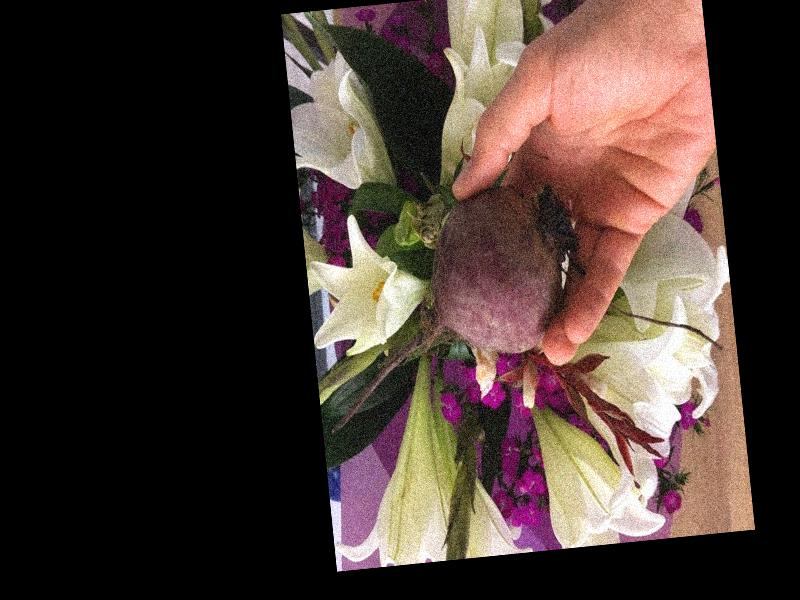Beet: (311, 180, 593, 434)
